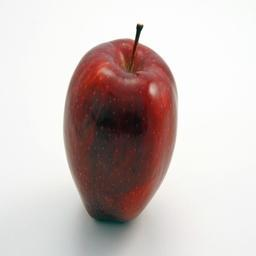apple: (60, 34, 178, 225)
